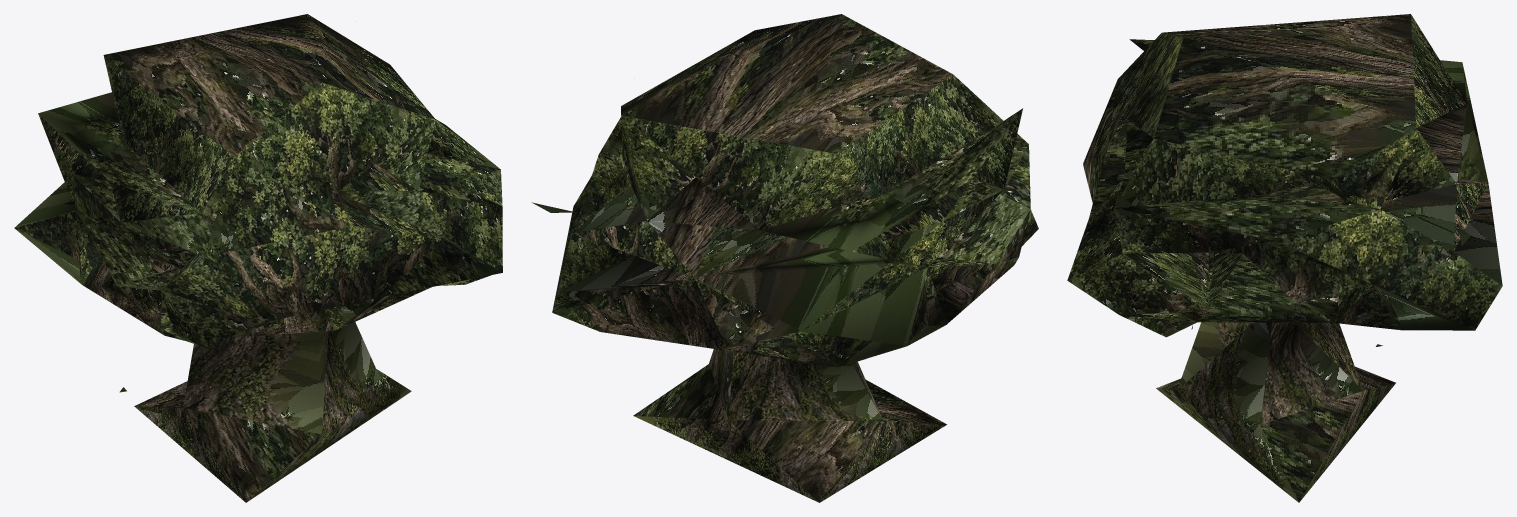
Rendered from garden_tree_med.glb.
3 views of the same model, side by side, from view 1: azimuth 30°, elevation 25°; view 2: azimuth 150°, elevation 25°; view 3: azimuth 270°, elevation 25° (orthographic). The views are drawn at different scales.
Visible parts, largest first — view 1: garden_tree_med; view 2: garden_tree_med; view 3: garden_tree_med.
Boxes of the visible parts, x1=… form: garden_tree_med: x1=14, y1=14, x2=502, y2=502; garden_tree_med: x1=531, y1=14, x2=1038, y2=502; garden_tree_med: x1=1067, y1=14, x2=1502, y2=502.
Size of the model in its own units: 4.87 by 5.09 by 5.08.
Materials: 1 (1 with a texture image).
